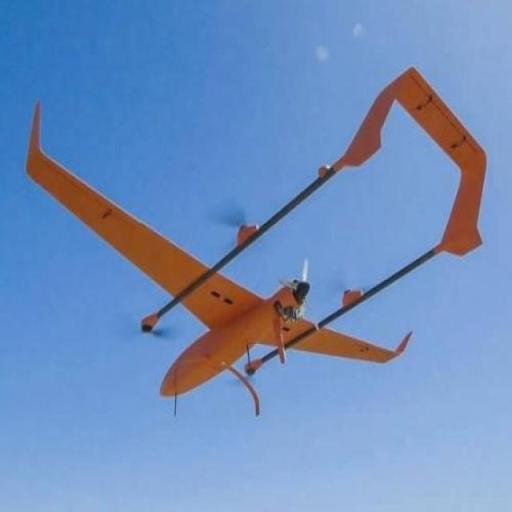uav: (16, 60, 492, 418)
